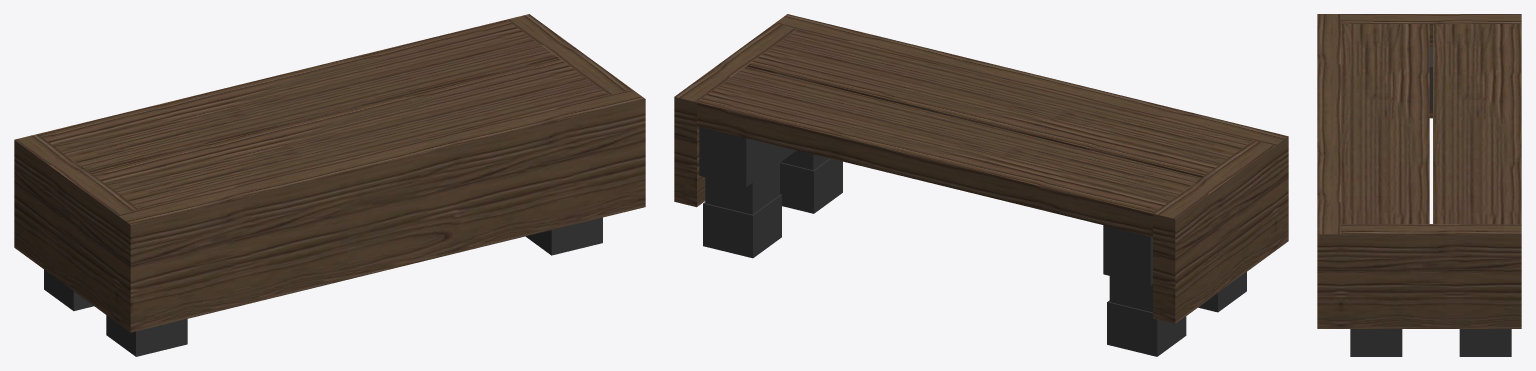
File: tanmok-step_lightoak.fbx
3 renders of one model, left to right at view 1: azimuth 30°, elevation 25°; view 2: azimuth 150°, elevation 25°; view 3: azimuth 270°, elevation 25°, orthographic. The views are drawn at different scales.
Parts seen in each view (by area): view 1: tanmok-step_lightoak; view 2: tanmok-step_lightoak; view 3: tanmok-step_lightoak.
Part boxes in pixels (box(x1,y1,x2,y2)): tanmok-step_lightoak: box(14, 14, 645, 356); tanmok-step_lightoak: box(674, 14, 1288, 356); tanmok-step_lightoak: box(1317, 14, 1521, 356).
Bounding box in the file's own units: 80 × 22.5 × 31.3.
Materials: 2 (2 with a texture image).
